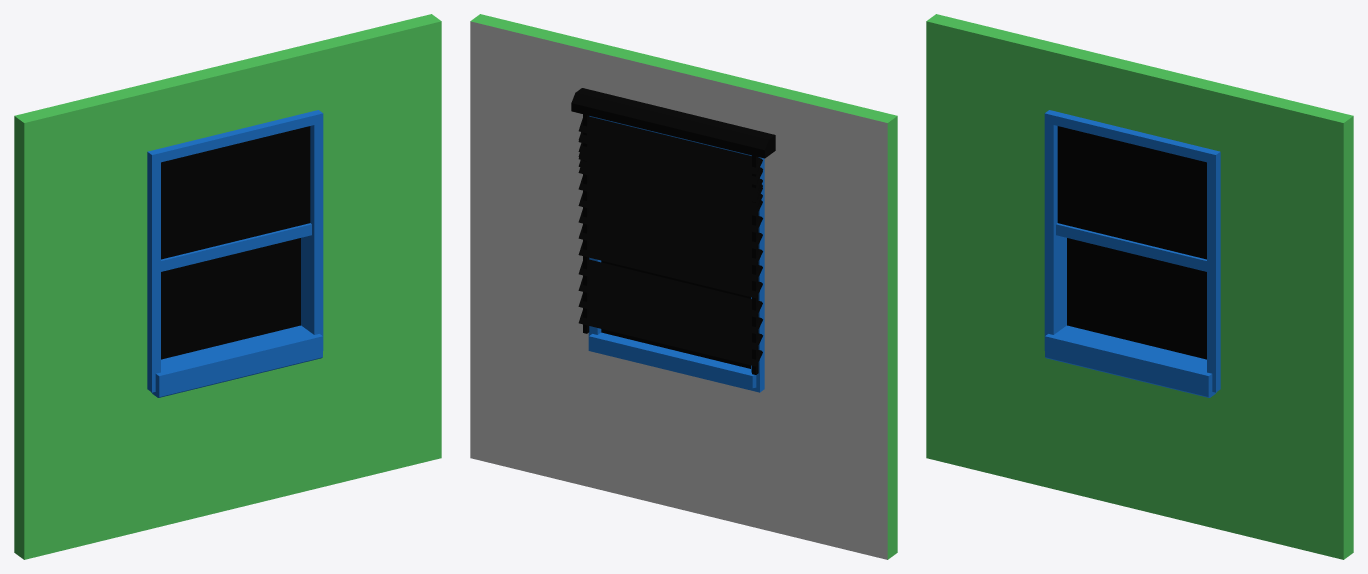
The model's file is Ph_window.fbx.
3 renders of one model, left to right at view 1: azimuth 30°, elevation 25°; view 2: azimuth 150°, elevation 25°; view 3: azimuth 330°, elevation 25°, orthographic.
Visible parts, largest first — view 1: Boole_3; view 2: Boole_3, Cube_91_2, Cube_91; view 3: Boole_3.
Part boxes in pixels (x1,y1,x2,y2): Boole_3: (14,14,441,559); Boole_3: (470,14,897,559); Cube_91_2: (578,132,762,366); Cube_91: (571,88,775,374); Boole_3: (926,14,1353,559).
Size of the model in its own units: 250 by 250 by 30.73.
